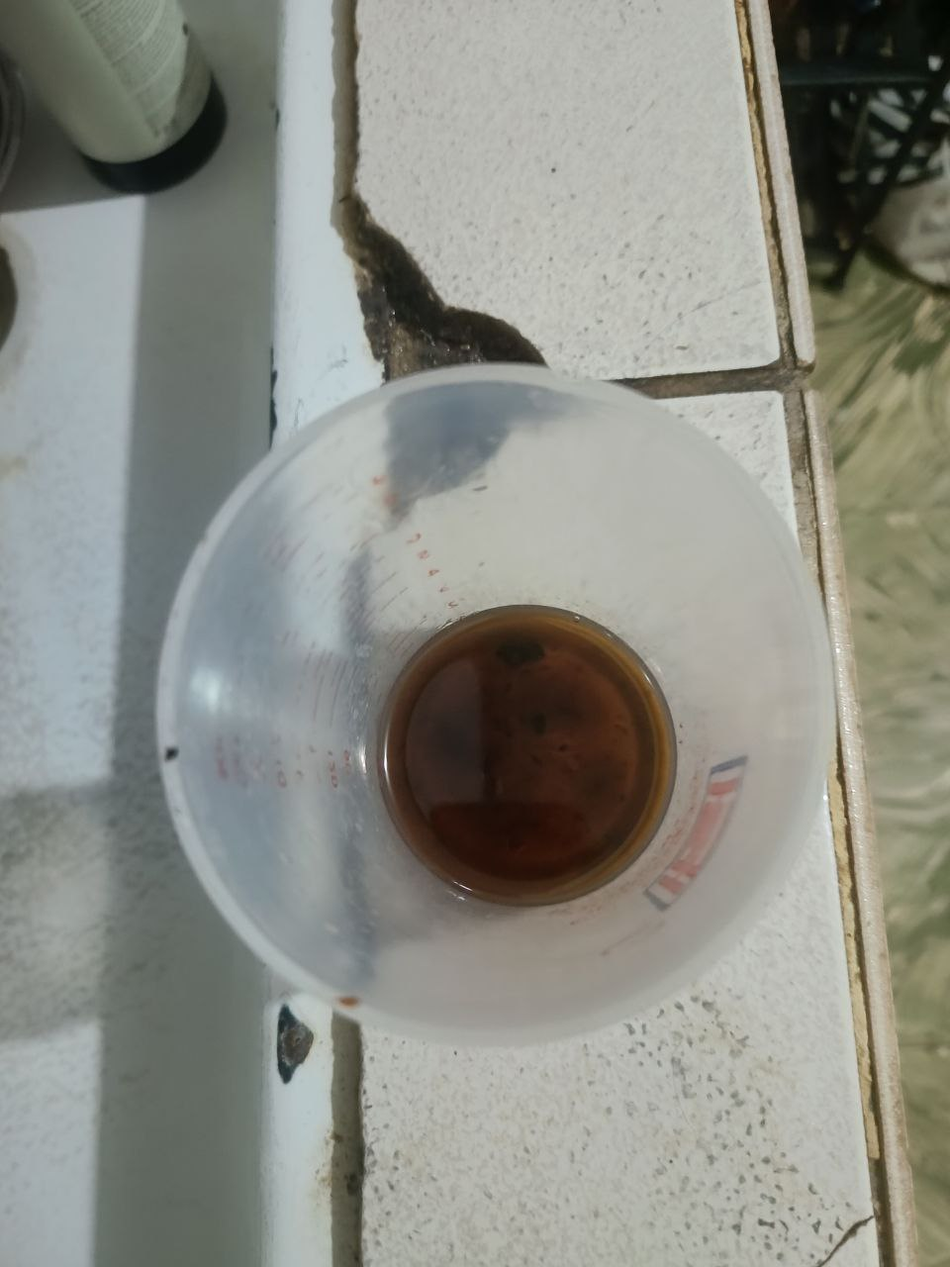non-reusable: (383, 607, 676, 904)
